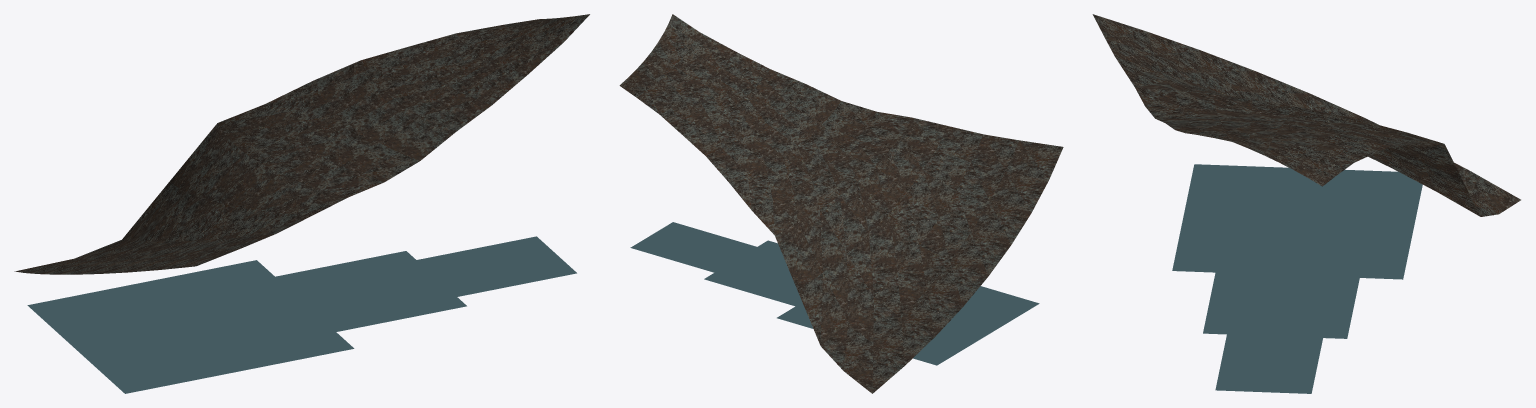
The model's file is pako-v2.glb.
3 renders of one model, left to right at view 1: azimuth 30°, elevation 25°; view 2: azimuth 150°, elevation 25°; view 3: azimuth 270°, elevation 25°, orthographic. The views are drawn at different scales.
Visible parts, largest first — view 1: pako_architecture; view 2: pako_architecture; view 3: pako_architecture.
Boxes of the visible parts, bbox=[...] form: pako_architecture: bbox=[14, 14, 589, 393]; pako_architecture: bbox=[619, 14, 1063, 393]; pako_architecture: bbox=[1092, 14, 1520, 393].
Bounding box in the file's own units: 22.92 × 12.45 × 17.77.
Materials: 2 (1 with a texture image).
